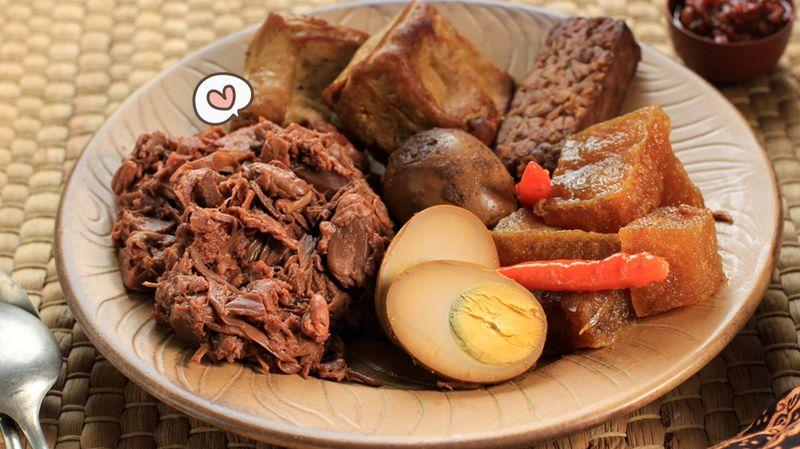gudeg: (113, 11, 725, 381)
